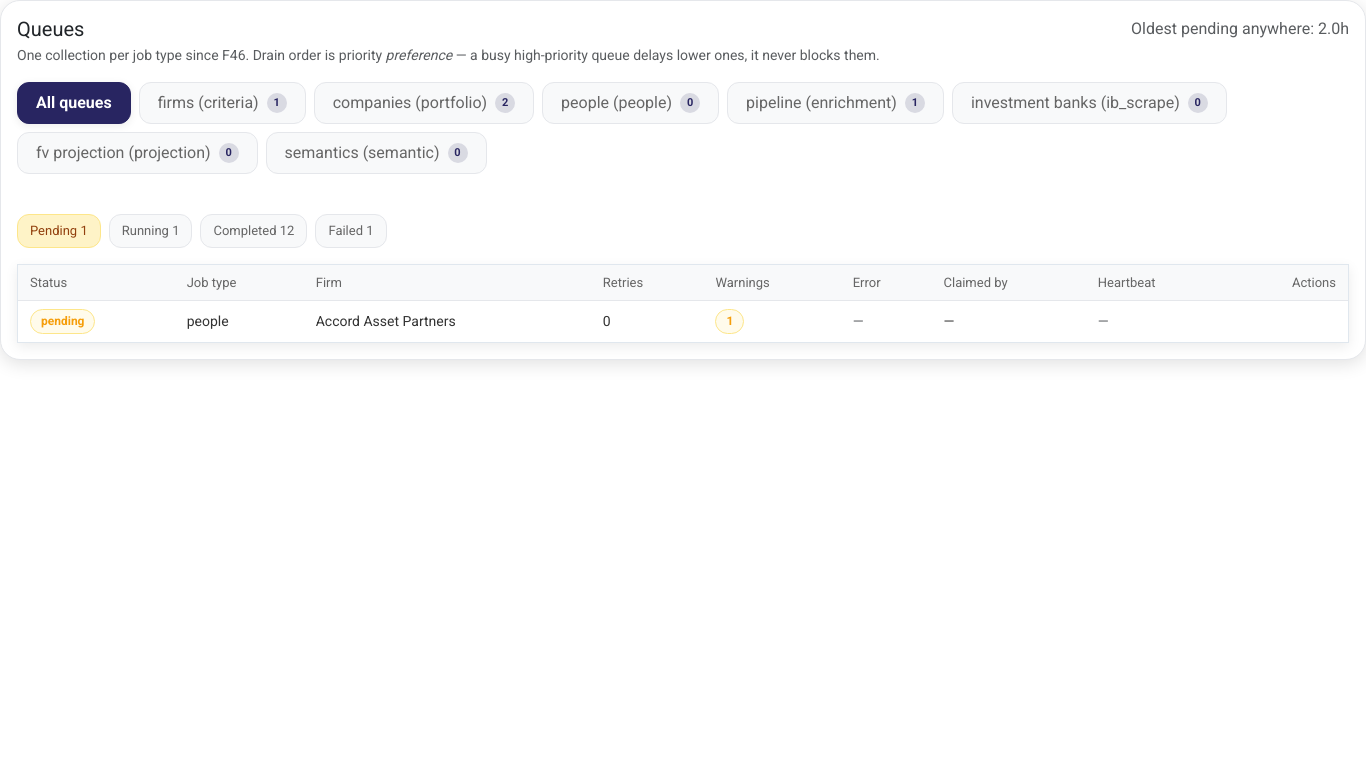
Test: QueuesPanel job list › requeues a job and reports the retry-count reset
Click the tab "companies (portfolio) 2".
click(424, 103)  # box 314,82 -> 534,124
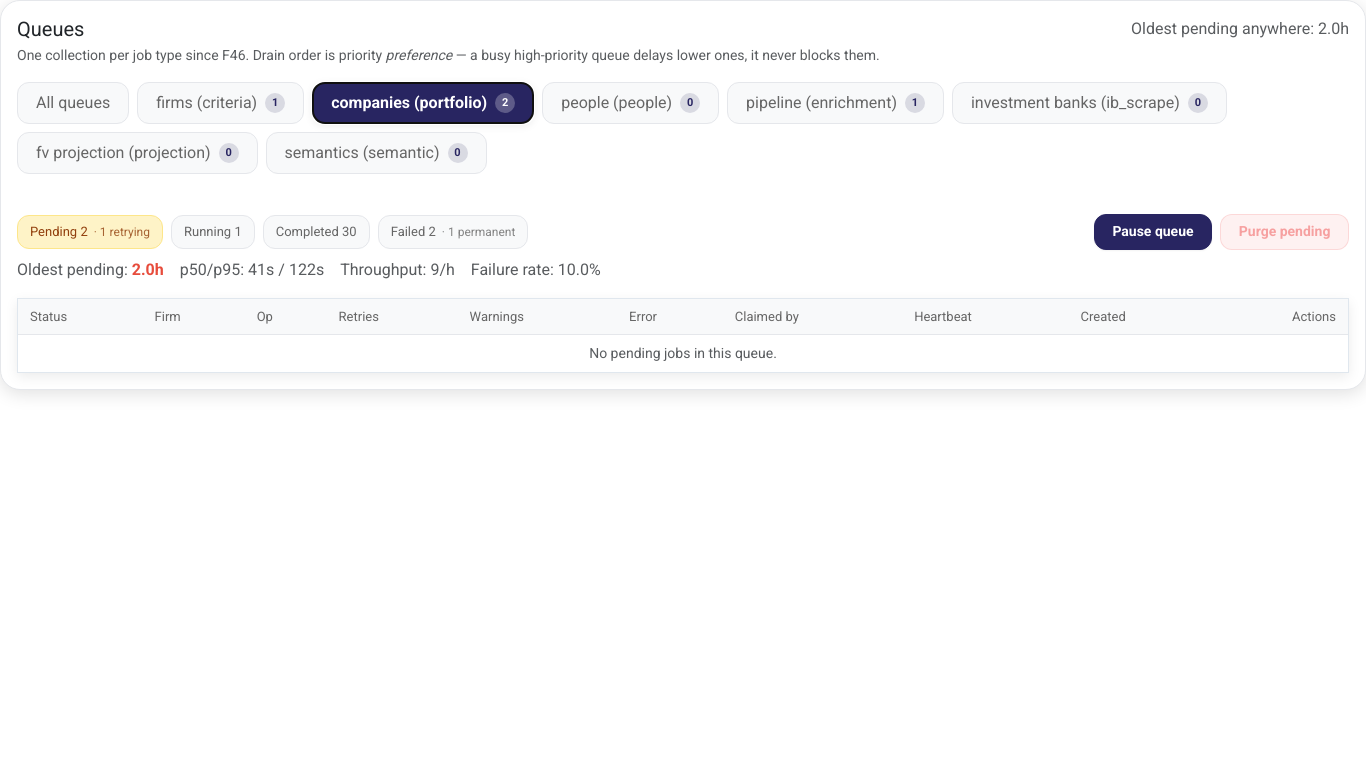
Click the button "Failed 2 · 1 permanent".
click(453, 232)  # box 378,215 -> 528,249
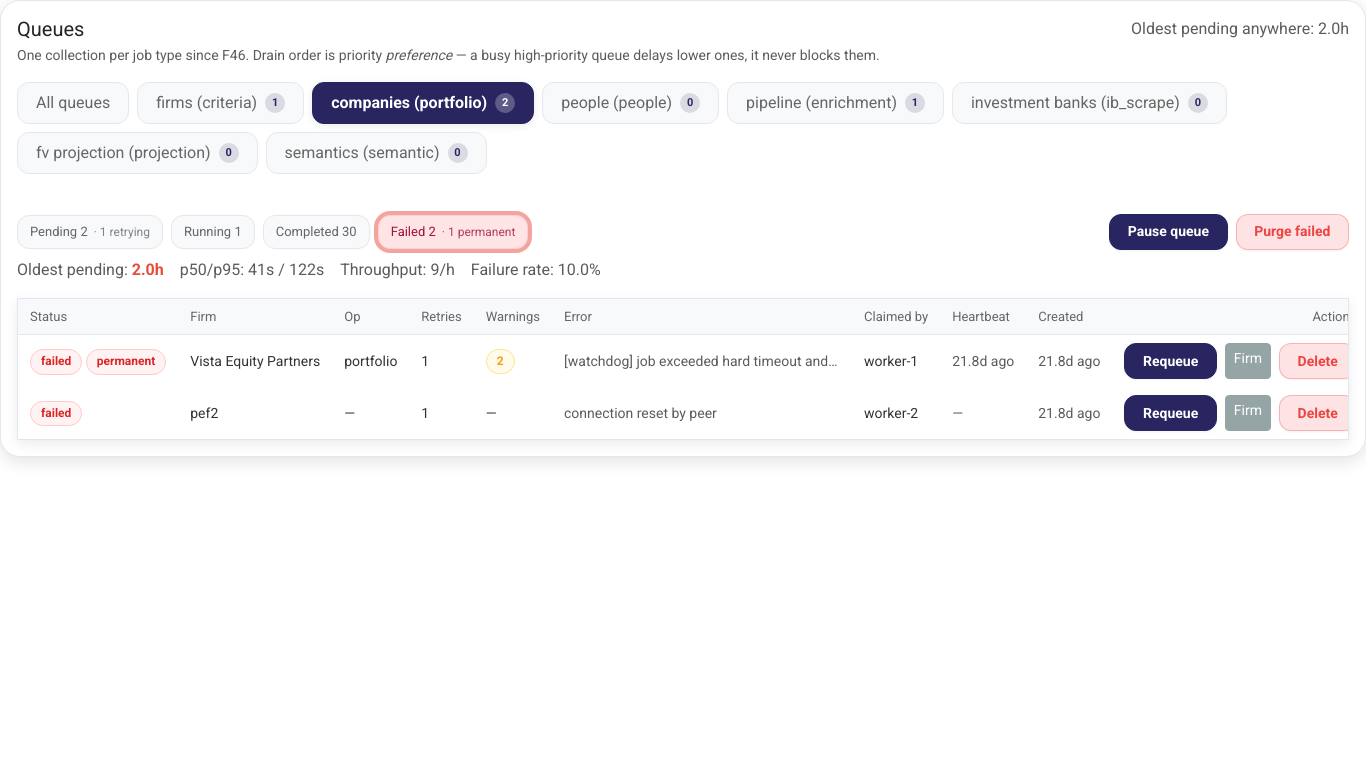
Result: the button "[watchdog]" is shown at 552,335 -> 852,388
Click the button "Requeue" in the row of "worker-1".
click(1171, 362)  # box 1124,344 -> 1217,380
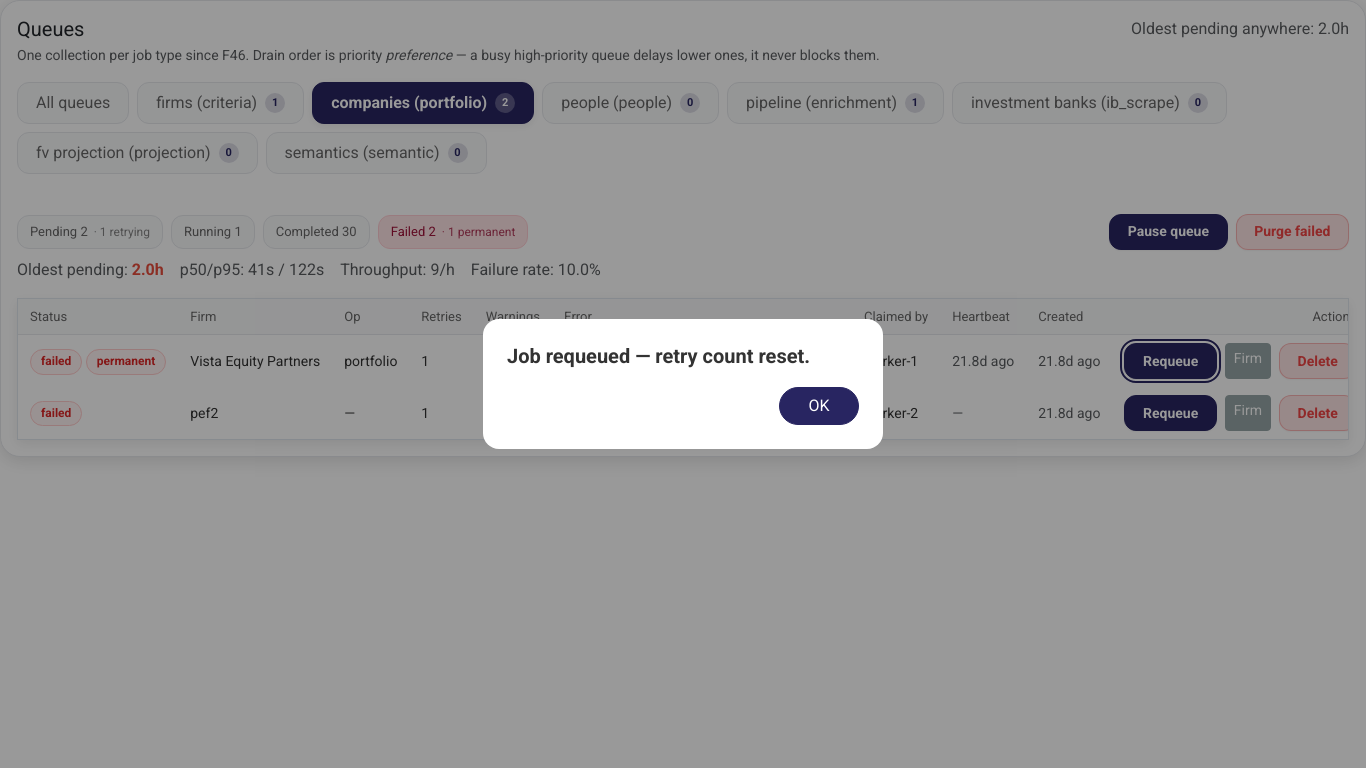
Result: the heading "Job requeued — retry count reset." is shown at 507,343 -> 859,369
